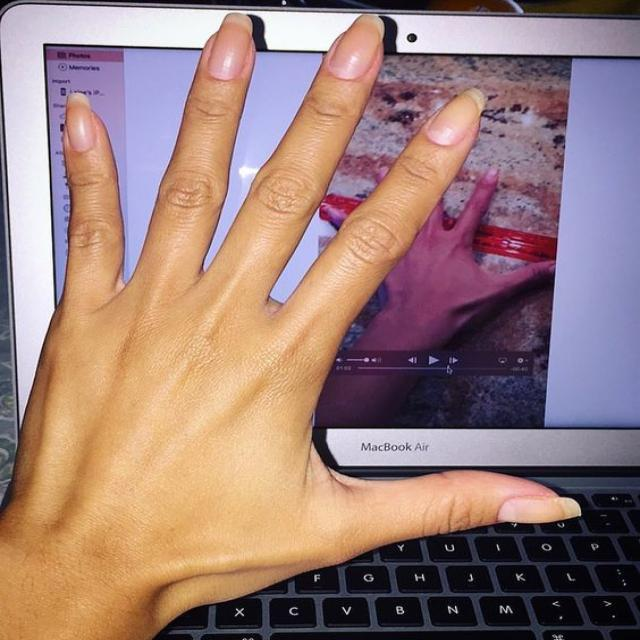Fingernail: (329, 14, 382, 81), (428, 86, 488, 144), (208, 14, 251, 82), (497, 497, 582, 525), (64, 93, 96, 153)
